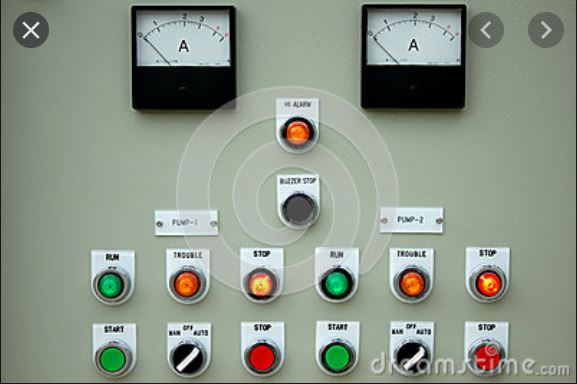Green_Led_Off: (91, 338, 135, 378), (318, 338, 361, 376)
Green_Led_On: (317, 267, 361, 303), (92, 265, 132, 303)
Red_Led_Off: (466, 337, 509, 376), (245, 338, 284, 375)
Red_Led_On: (241, 267, 282, 303), (395, 265, 432, 303), (470, 267, 509, 303), (280, 115, 317, 150), (170, 267, 207, 302)
